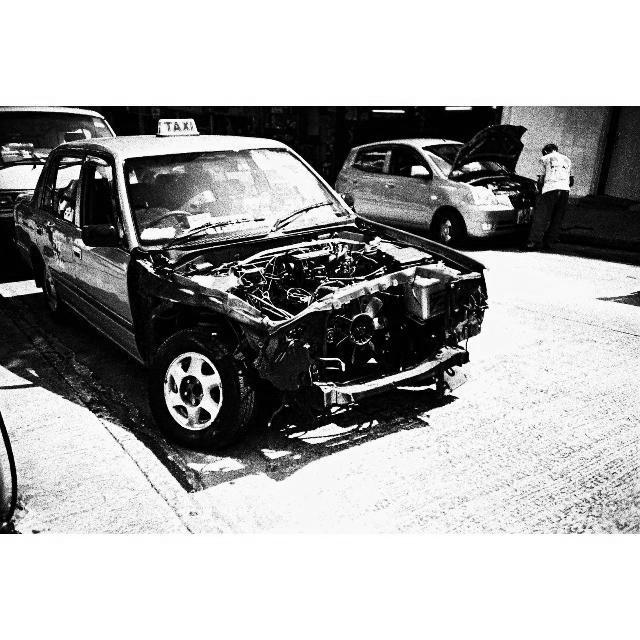bonnet-dent: (121, 211, 440, 308)
front-bumper-dent: (279, 290, 466, 414)
